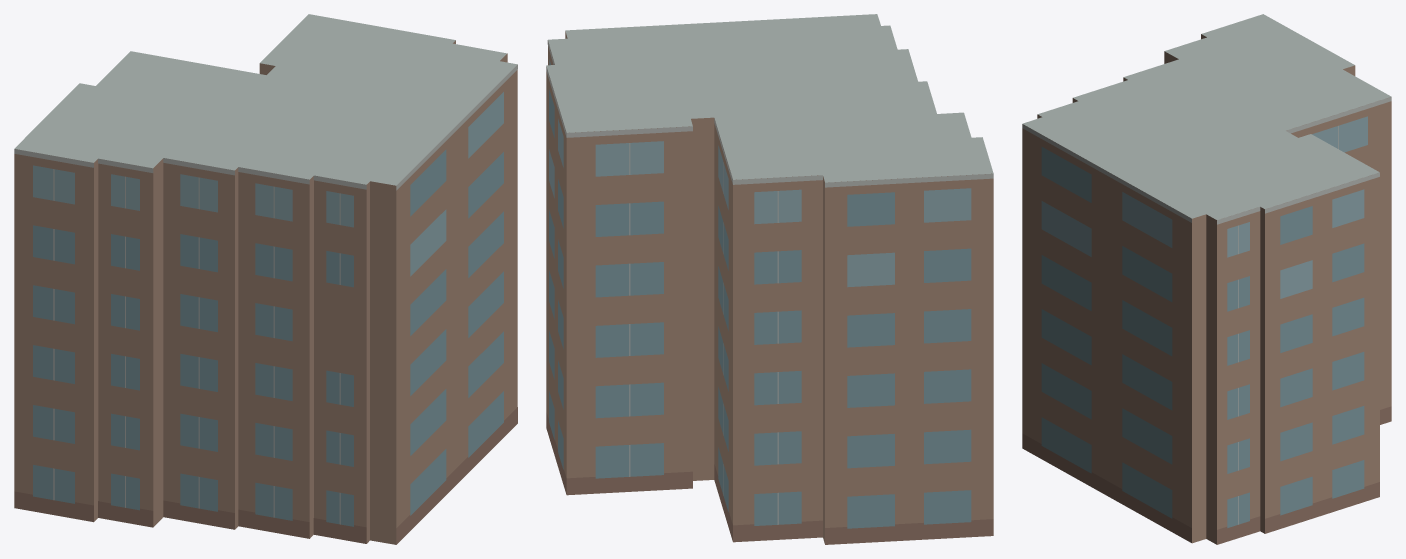
Rendered from survey-upis-32750469.glb.
3 renders of one model, left to right at view 1: azimuth 30°, elevation 25°; view 2: azimuth 150°, elevation 25°; view 3: azimuth 270°, elevation 25°, orthographic. The views are drawn at different scales.
Visible parts, largest first — view 1: survey-upis-32750469.tmp; view 2: survey-upis-32750469.tmp; view 3: survey-upis-32750469.tmp.
Part boxes in pixels (left/top/right/bottom): survey-upis-32750469.tmp: left=14, top=14, right=517, bottom=544; survey-upis-32750469.tmp: left=546, top=14, right=993, bottom=544; survey-upis-32750469.tmp: left=1022, top=14, right=1391, bottom=544.
Size of the model in its own units: 24.26 by 17.8 by 18.36.
